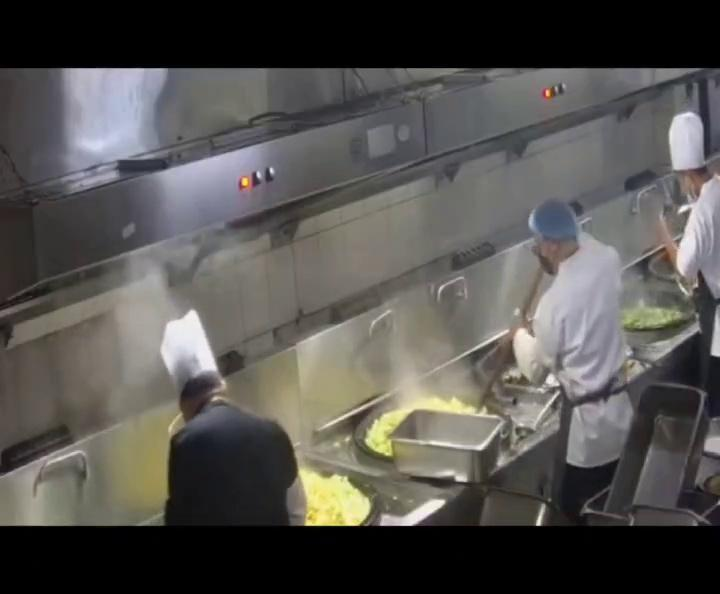gloves: (528, 198, 580, 241)
mask: (537, 243, 558, 272)
